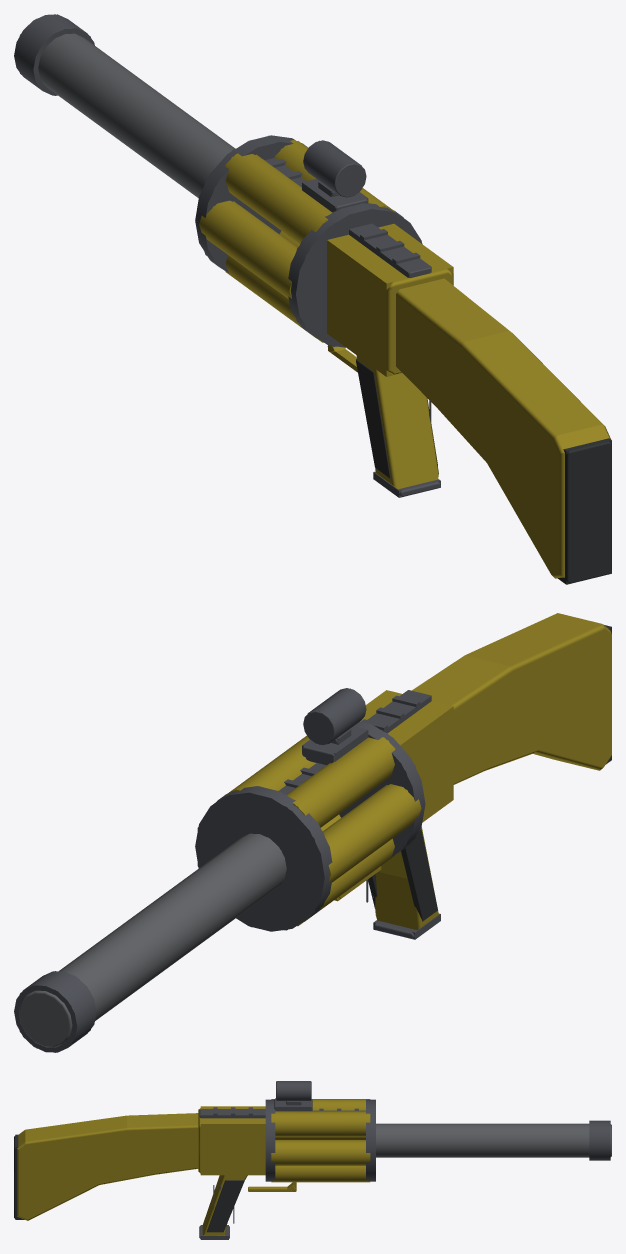
Rendered from la_rotary.glb.
3 views of the same model, one above another, from view 1: azimuth 30°, elevation 25°; view 2: azimuth 150°, elevation 25°; view 3: azimuth 270°, elevation 25° (orthographic). The views are drawn at different scales.
Parts seen in each view (by area): view 1: L0, L1; view 2: L0, L1; view 3: L0, L1.
Part boxes in pixels (x1,y1,x2,y2): L0: (14, 14, 611, 583); L1: (19, 14, 611, 584); L0: (14, 613, 611, 1052); L1: (14, 625, 611, 1052); L0: (14, 1081, 611, 1238); L1: (15, 1081, 610, 1239).
Size of the model in its own units: 0.1182 by 0.238 by 0.8458.
